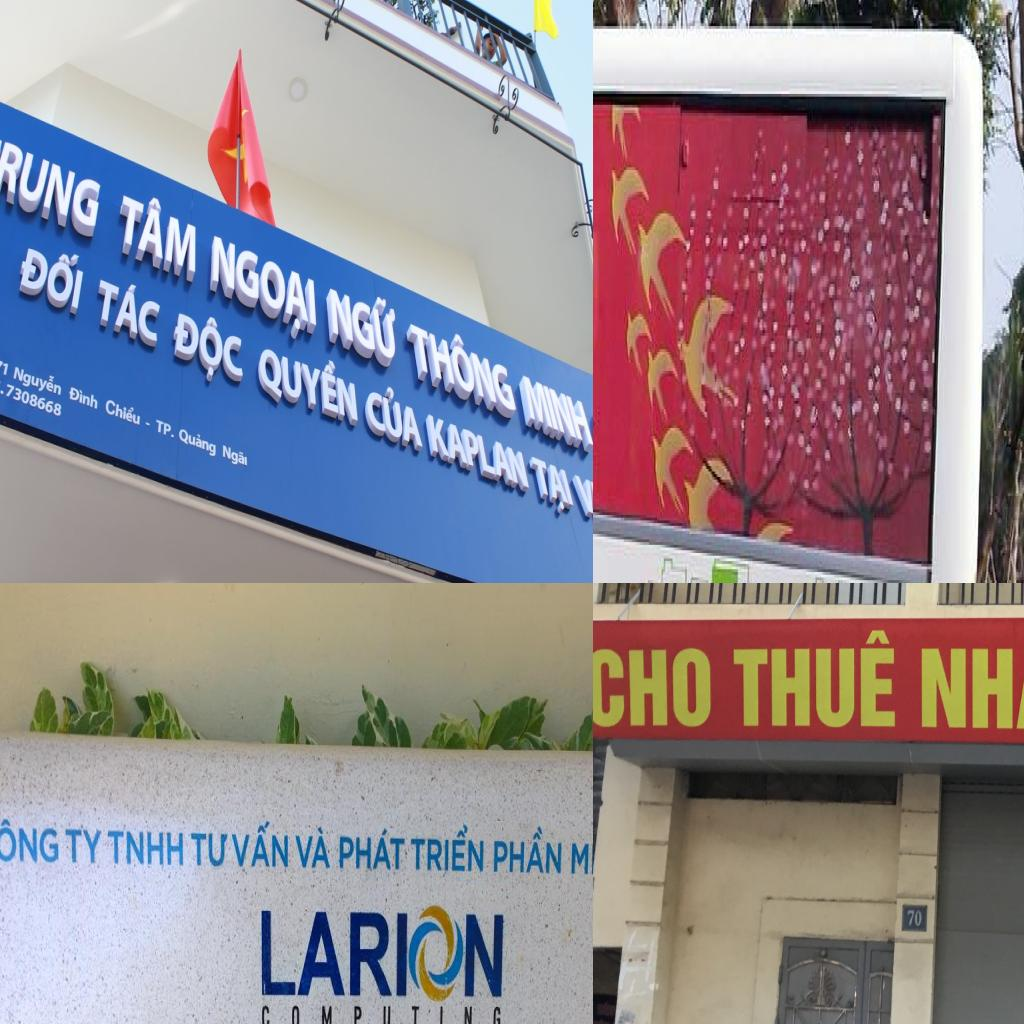text: (260, 905, 505, 999), (731, 628, 897, 730), (207, 234, 319, 351), (406, 314, 520, 425), (0, 130, 104, 243), (914, 626, 1024, 730), (256, 332, 361, 434), (593, 643, 714, 730), (424, 412, 531, 496), (116, 186, 197, 285), (168, 303, 245, 396), (324, 276, 398, 372), (516, 369, 593, 458), (15, 233, 87, 318), (92, 270, 164, 351), (362, 376, 426, 455), (261, 1003, 501, 1024), (493, 823, 563, 877), (410, 823, 485, 873), (527, 454, 579, 522), (0, 367, 63, 419), (339, 827, 406, 872), (230, 820, 289, 870), (107, 829, 184, 867), (154, 416, 219, 461), (0, 817, 59, 864), (11, 358, 64, 402), (568, 466, 593, 542), (294, 824, 332, 870), (190, 829, 230, 871), (64, 827, 103, 865), (103, 395, 142, 428), (570, 827, 593, 878), (67, 384, 100, 412), (223, 442, 249, 472), (906, 907, 922, 928)
